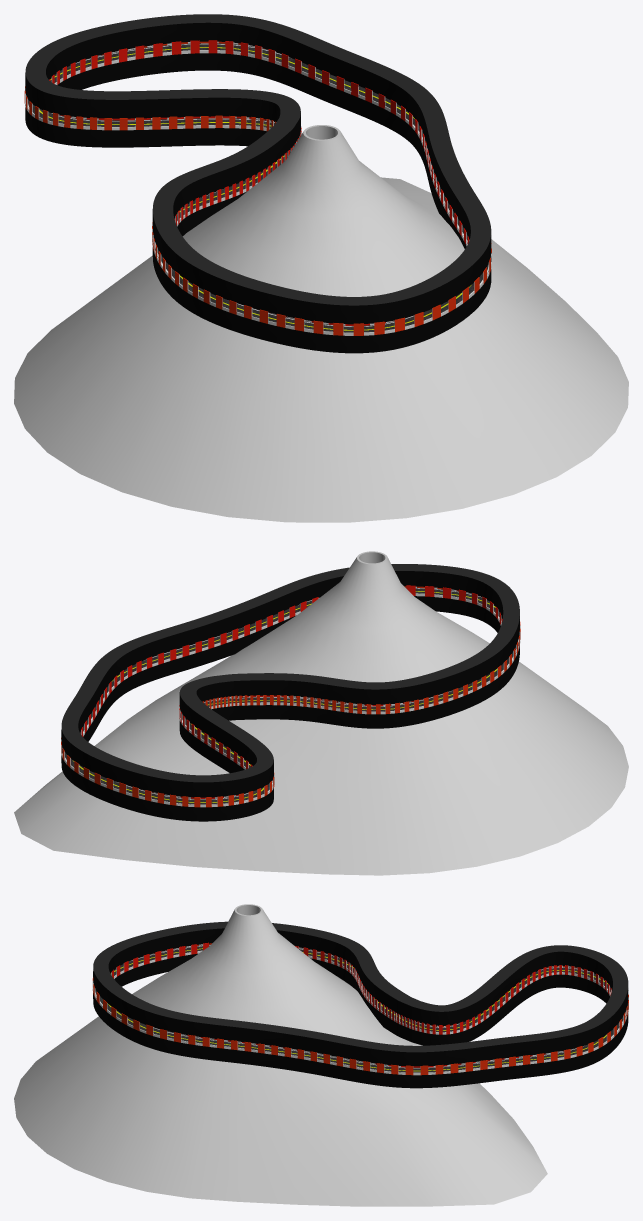
Rendered from volcano track updated.fbx.
The picture shows the model from 3 angles, top to bottom: view 1: azimuth 30°, elevation 25°; view 2: azimuth 150°, elevation 25°; view 3: azimuth 270°, elevation 25°; orthographic projection. The views are drawn at different scales.
Visible parts, largest first — view 1: volcano, NurbsCurve.001, NurbsCurve, NurbsCurve.004, NurbsCurve.006; view 2: volcano, NurbsCurve.001, NurbsCurve, NurbsCurve.006, NurbsCurve.004; view 3: volcano, NurbsCurve.001, NurbsCurve, NurbsCurve.006, NurbsCurve.004.
Part boxes in pixels (x1,y1,x2,y2): volcano: [14, 125, 628, 522]; NurbsCurve.001: [25, 14, 491, 324]; NurbsCurve: [25, 43, 491, 353]; NurbsCurve.004: [49, 40, 469, 325]; NurbsCurve.006: [24, 41, 491, 335]; volcano: [14, 551, 628, 875]; NurbsCurve.001: [61, 564, 519, 797]; NurbsCurve: [61, 588, 519, 821]; NurbsCurve.006: [61, 586, 520, 807]; NurbsCurve.004: [81, 585, 502, 798]; volcano: [14, 904, 547, 1206]; NurbsCurve.001: [93, 921, 628, 1066]; NurbsCurve: [93, 944, 628, 1088]; NurbsCurve.006: [92, 943, 628, 1075]; NurbsCurve.004: [111, 942, 611, 1067].
Size of the model in its own units: 8609 by 3863 by 11101.
